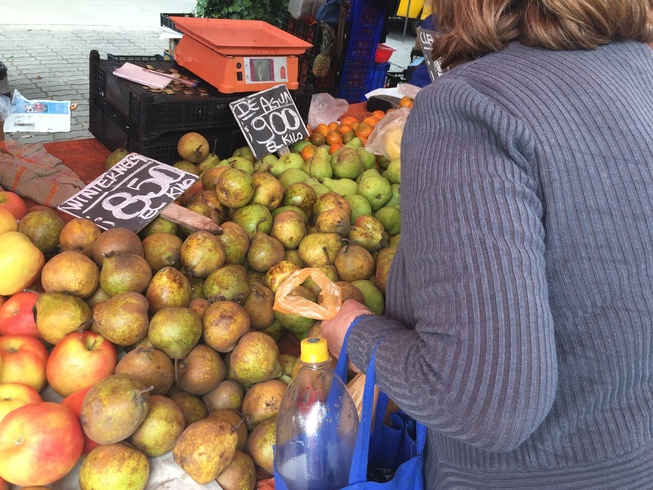precio: (54, 148, 202, 239), (222, 85, 317, 166)
